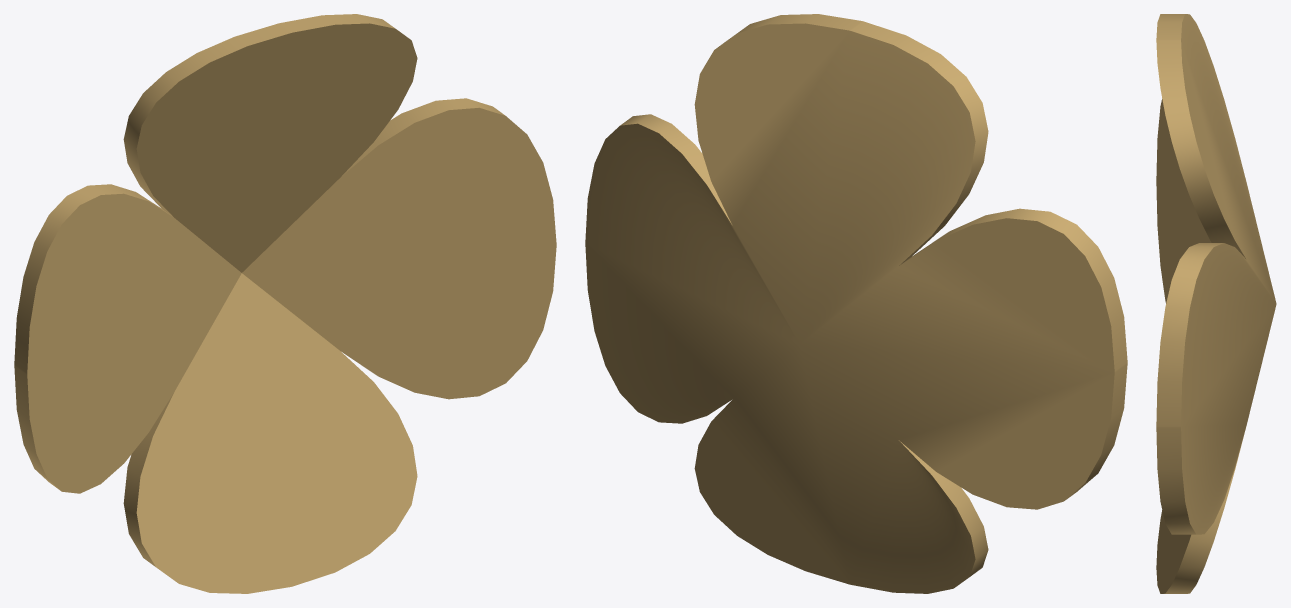
Rendered from Clever B Multi.fbx.
3 views of the same model, side by side, from view 1: azimuth 30°, elevation 25°; view 2: azimuth 150°, elevation 25°; view 3: azimuth 270°, elevation 25° (orthographic). The views are drawn at different scales.
Parts seen in each view (by area): view 1: Clever B; view 2: Clever B; view 3: Clever B.
Boxes of the visible parts, bbox=[...] form: Clever B: bbox=[14, 14, 556, 593]; Clever B: bbox=[585, 14, 1127, 593]; Clever B: bbox=[1156, 14, 1276, 593].
Size of the model in its own units: 0.9124 by 0.9124 by 0.1883.
